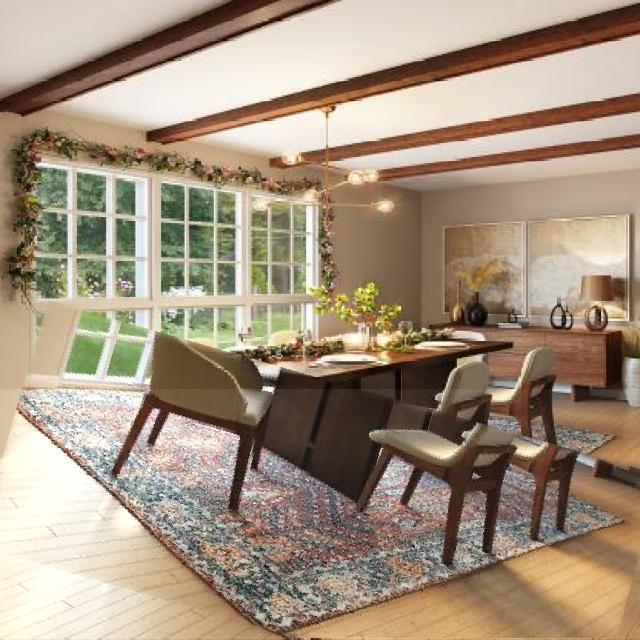floor: (0, 390, 640, 639)
